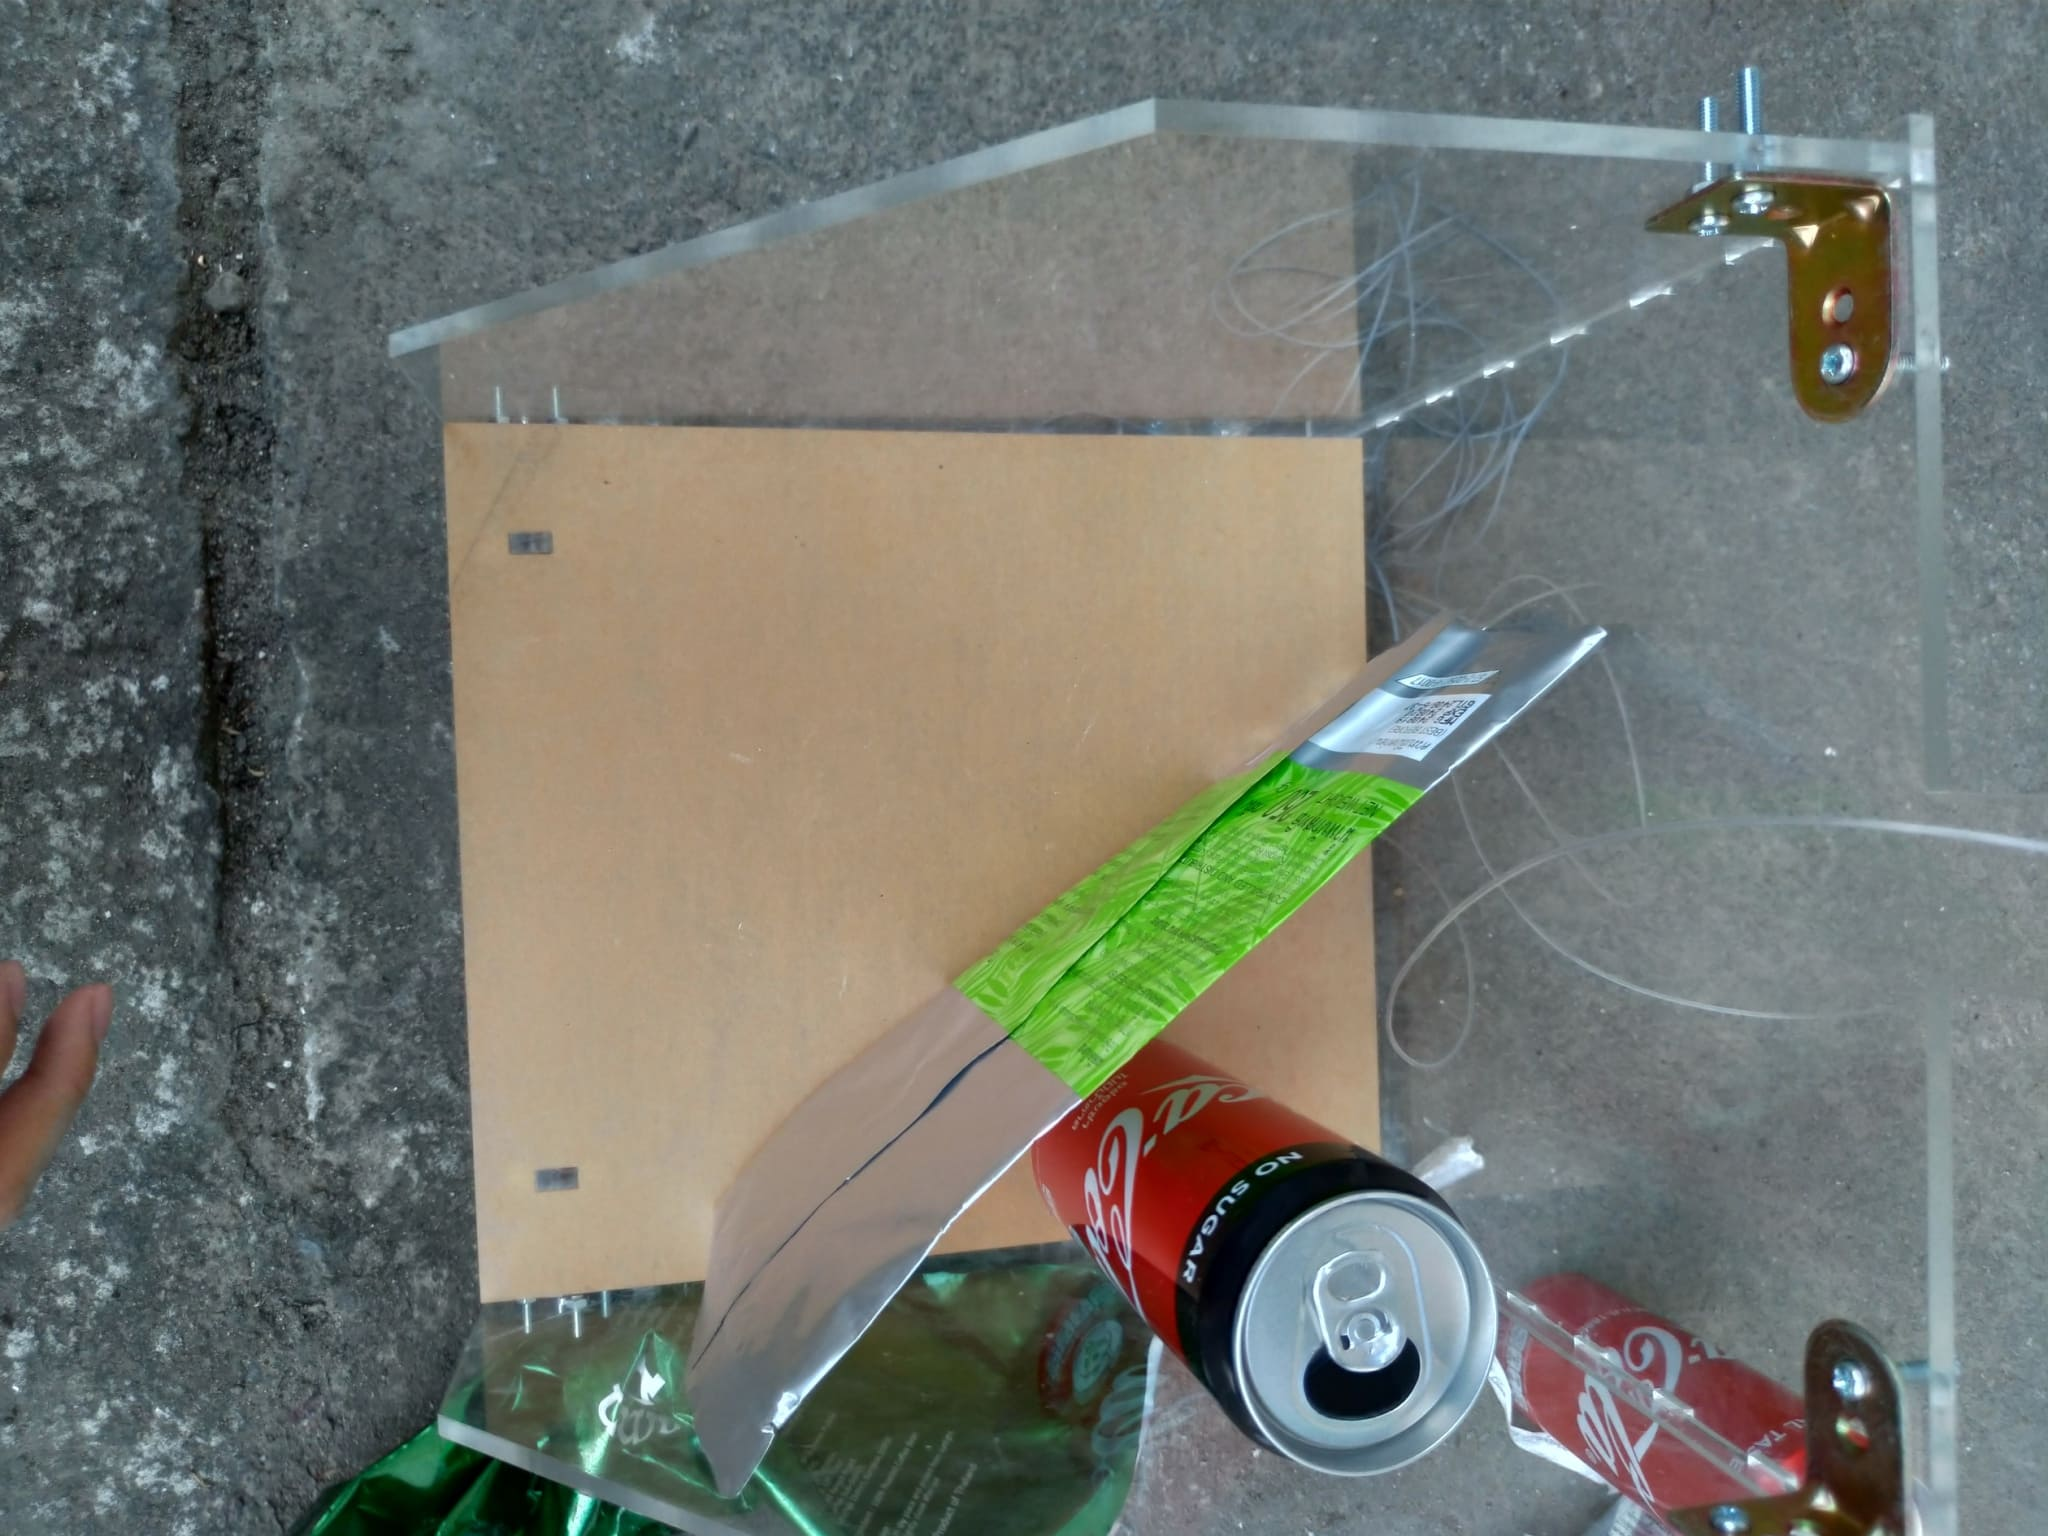AlCan: (1043, 1054, 1492, 1483), (1480, 1268, 1909, 1536)
Others: (685, 526, 1613, 1504), (318, 1265, 1147, 1536)
